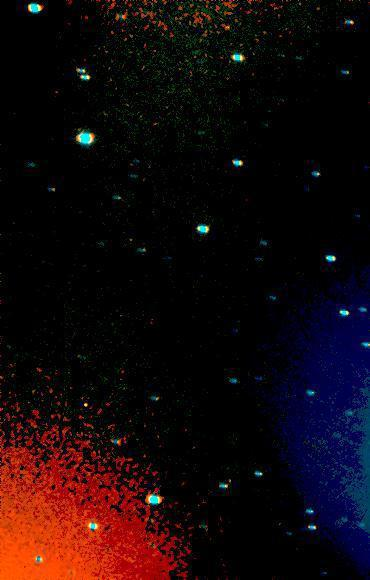star: (71, 388, 101, 418)
